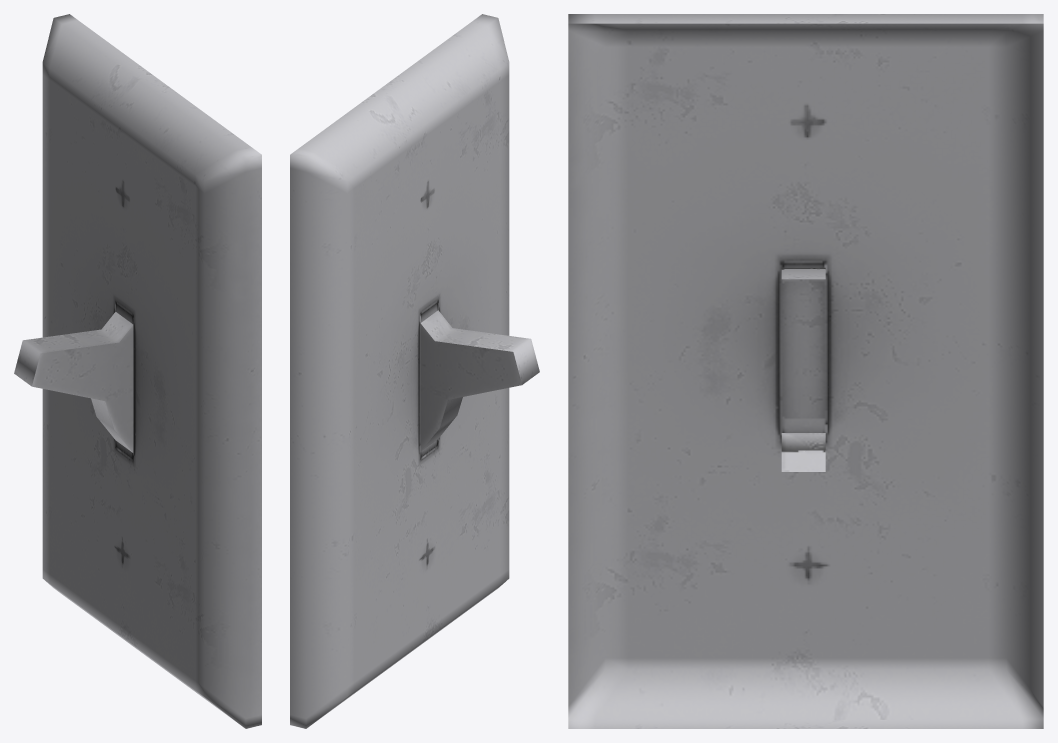
The model's file is SM_Swith_A1.fbx.
3 views of the same model, side by side, from view 1: azimuth 30°, elevation 25°; view 2: azimuth 150°, elevation 25°; view 3: azimuth 270°, elevation 25° (orthographic). The views are drawn at different scales.
Parts seen in each view (by area): view 1: SM_Swith_A1; view 2: SM_Swith_A1; view 3: SM_Swith_A1.
Boxes of the visible parts, bbox=[...] form: SM_Swith_A1: bbox=[14, 14, 261, 728]; SM_Swith_A1: bbox=[290, 14, 539, 728]; SM_Swith_A1: bbox=[568, 14, 1043, 728].
Bounding box in the file's own units: 3.72 × 8.35 × 13.67.
Materials: 1 (1 with a texture image).
